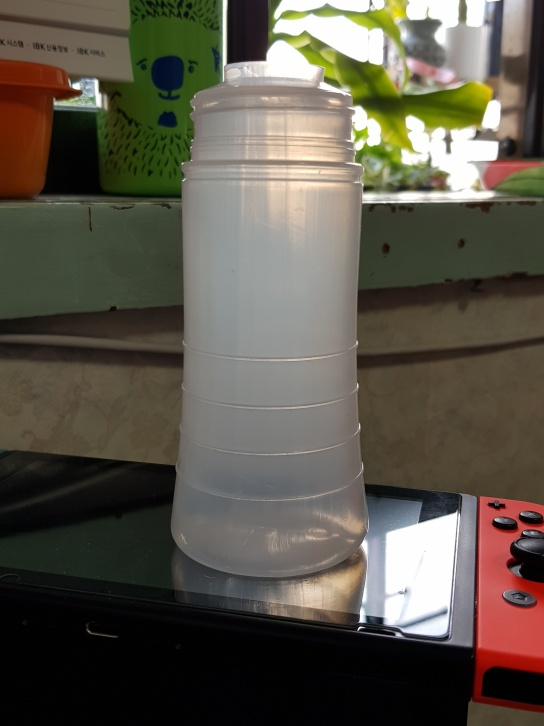Plastic: (166, 59, 372, 583)
